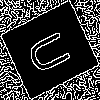U: (25, 25, 80, 77)
